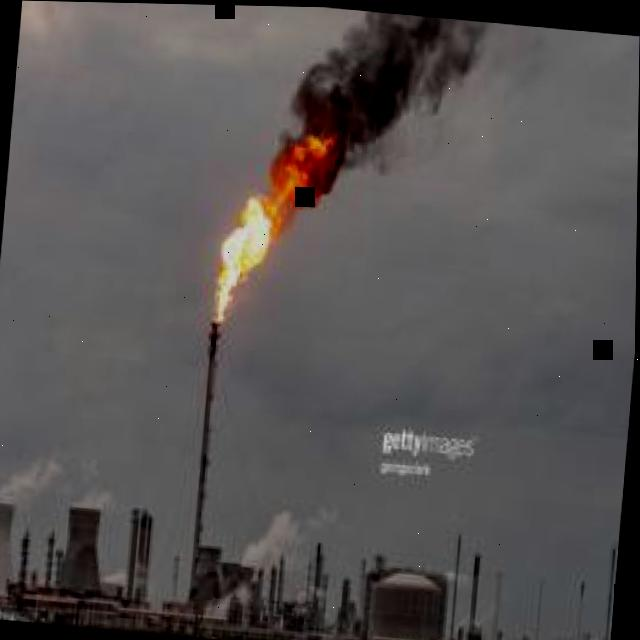fire: (214, 129, 343, 321)
smoke: (275, 9, 500, 176)
